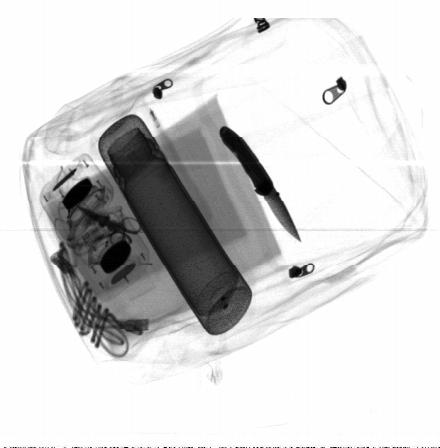Knife: (219, 124, 303, 244)
Scissors: (76, 205, 141, 253)
